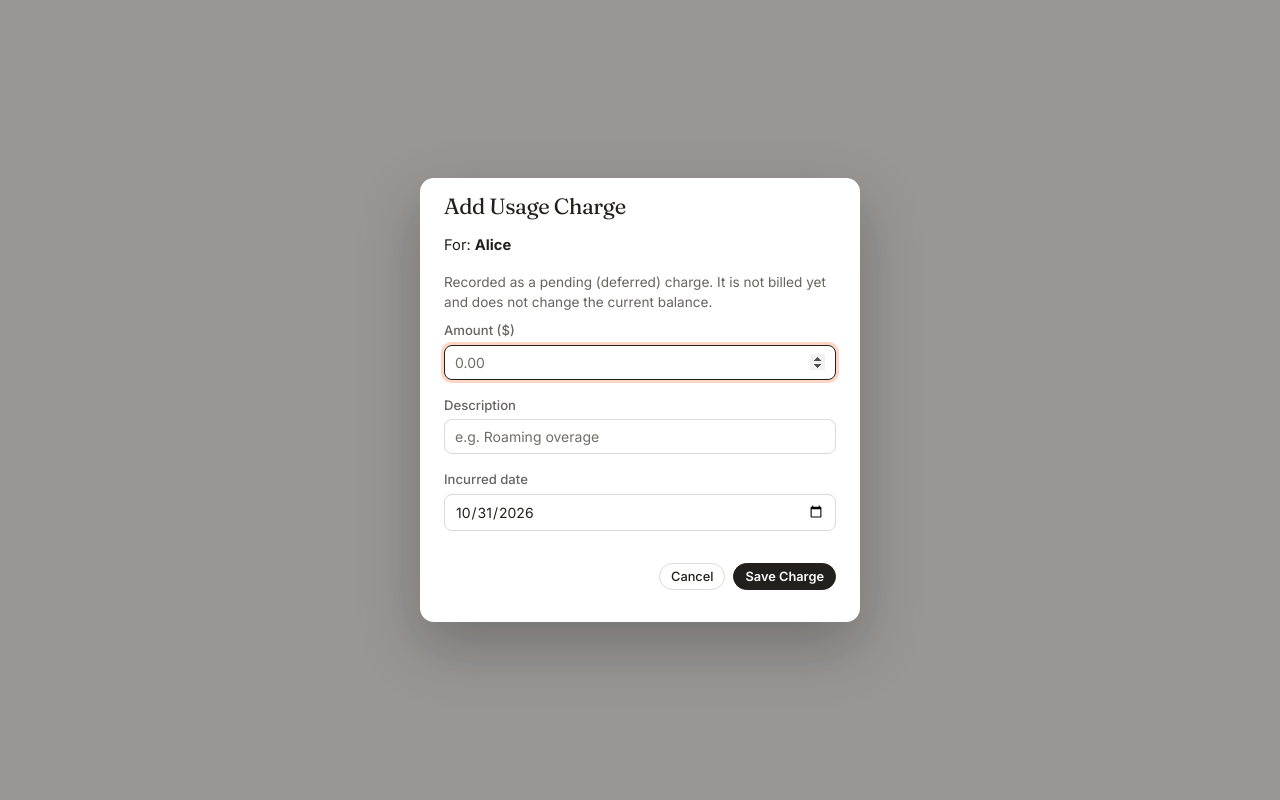
UsageChargeDialog › blocks submit and shows an error for a non-positive amount
Type "X" into the field labelled "Description" at (640, 437), box [444, 419, 836, 454]
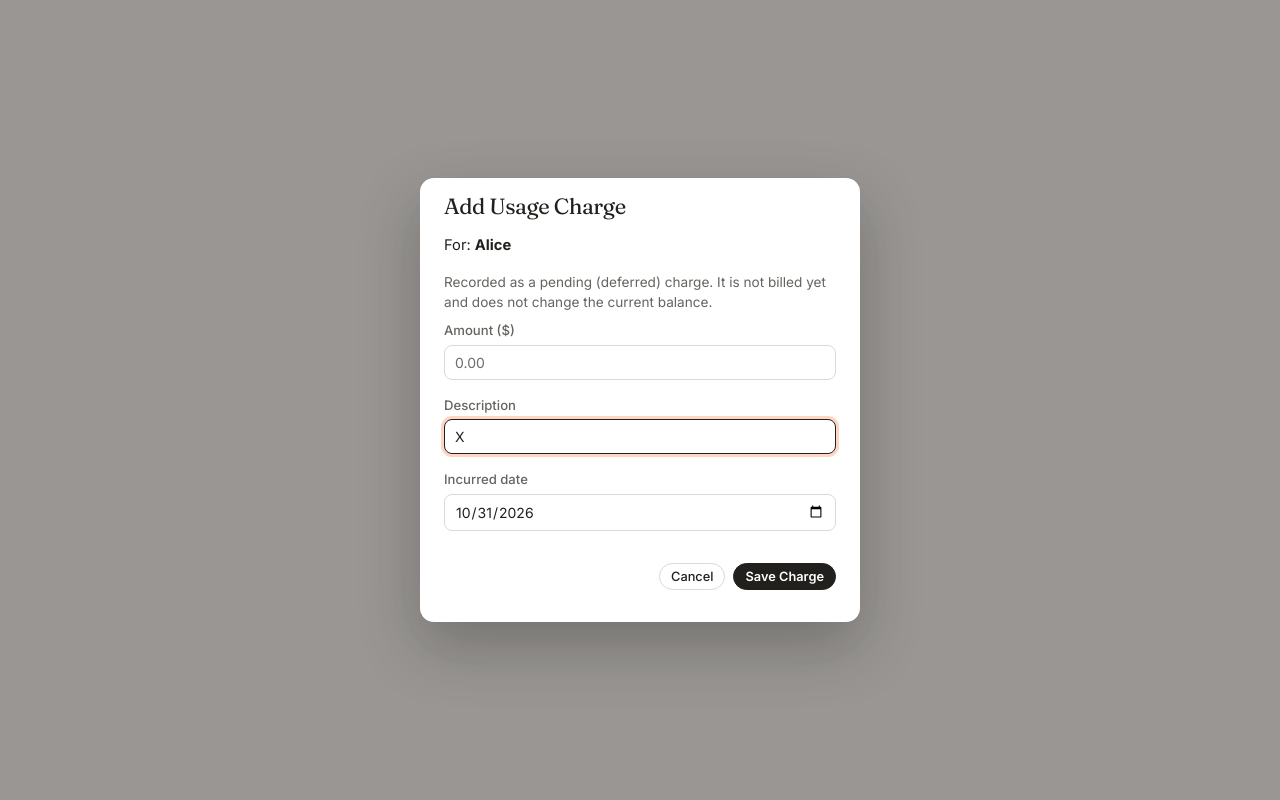
Click the button "Save Charge" at (785, 577), box [734, 563, 836, 590]
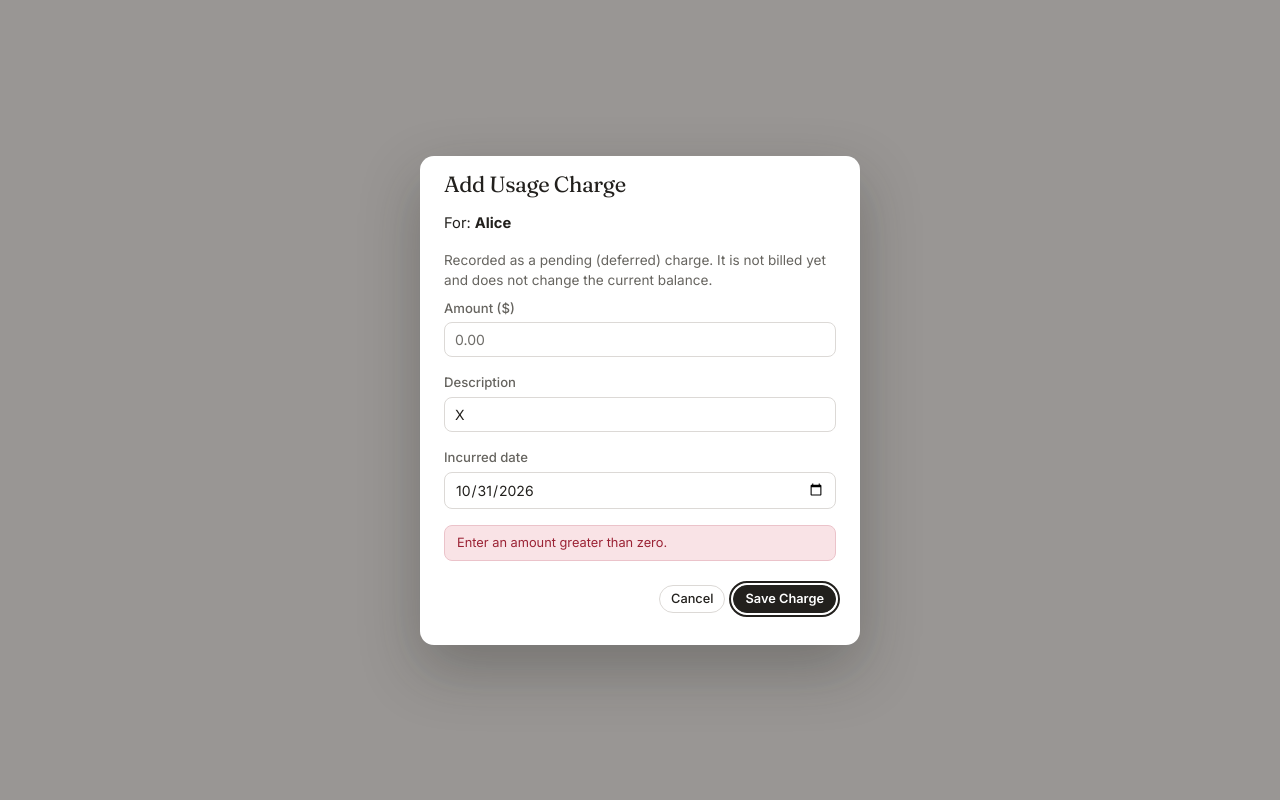
Check: the text "Enter an amount greater than zero." is shown, box [444, 525, 836, 561]
